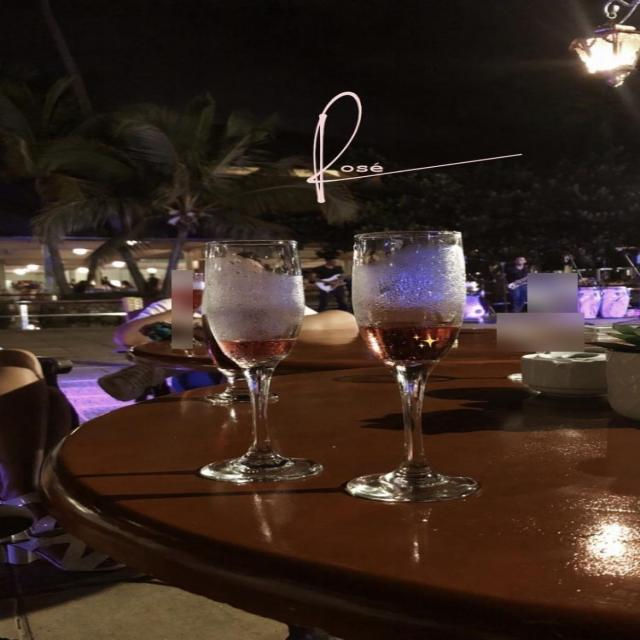glass-wine: (342, 230, 482, 502), (195, 238, 322, 484)
